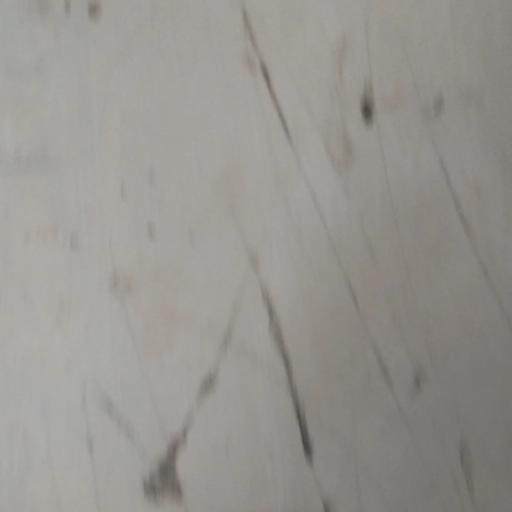stain: (141, 0, 512, 512)
